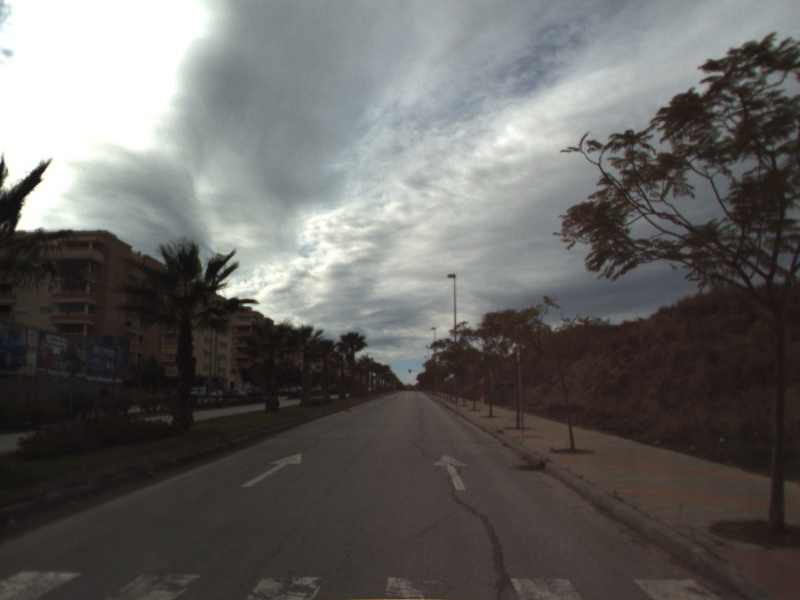STRAIGHT: (238, 451, 304, 489), (431, 452, 470, 492)
